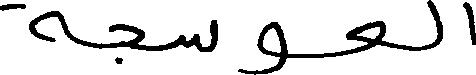X: (0, 0, 65, 46), (242, 17, 284, 74), (349, 16, 384, 58), (112, 19, 141, 68), (182, 15, 215, 56), (428, 0, 440, 53), (468, 0, 475, 49)
